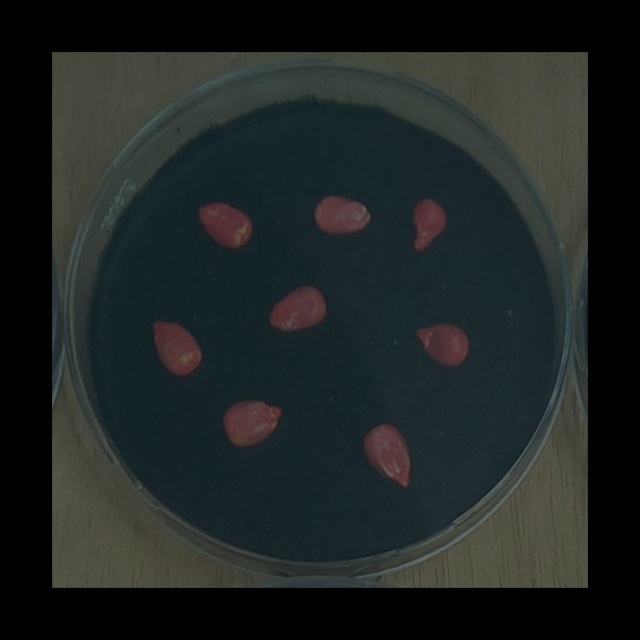Zea mays: (357, 417, 417, 494), (215, 394, 288, 454), (261, 278, 332, 339), (146, 313, 207, 381), (191, 194, 258, 255), (408, 315, 474, 372), (308, 189, 375, 241), (406, 191, 451, 257)
